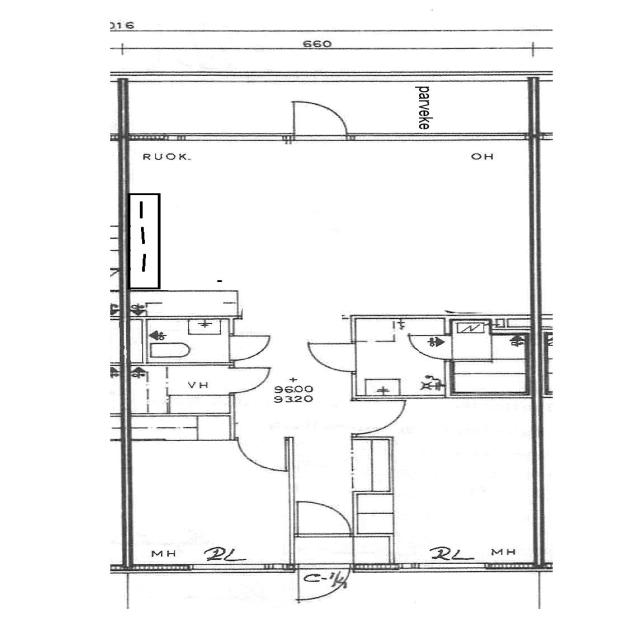door: (285, 95, 353, 145), (288, 496, 354, 537), (350, 394, 410, 434), (236, 435, 294, 472), (305, 339, 361, 374), (226, 332, 276, 363), (406, 332, 456, 362), (229, 365, 276, 394)
window: (345, 128, 523, 147), (146, 129, 289, 147), (151, 561, 289, 577), (411, 559, 509, 576)
zone: (124, 139, 546, 318), (354, 394, 544, 569), (124, 423, 288, 570), (356, 320, 451, 399), (126, 363, 236, 417), (130, 315, 233, 364), (388, 327, 458, 384), (449, 352, 534, 398), (294, 562, 350, 603)
